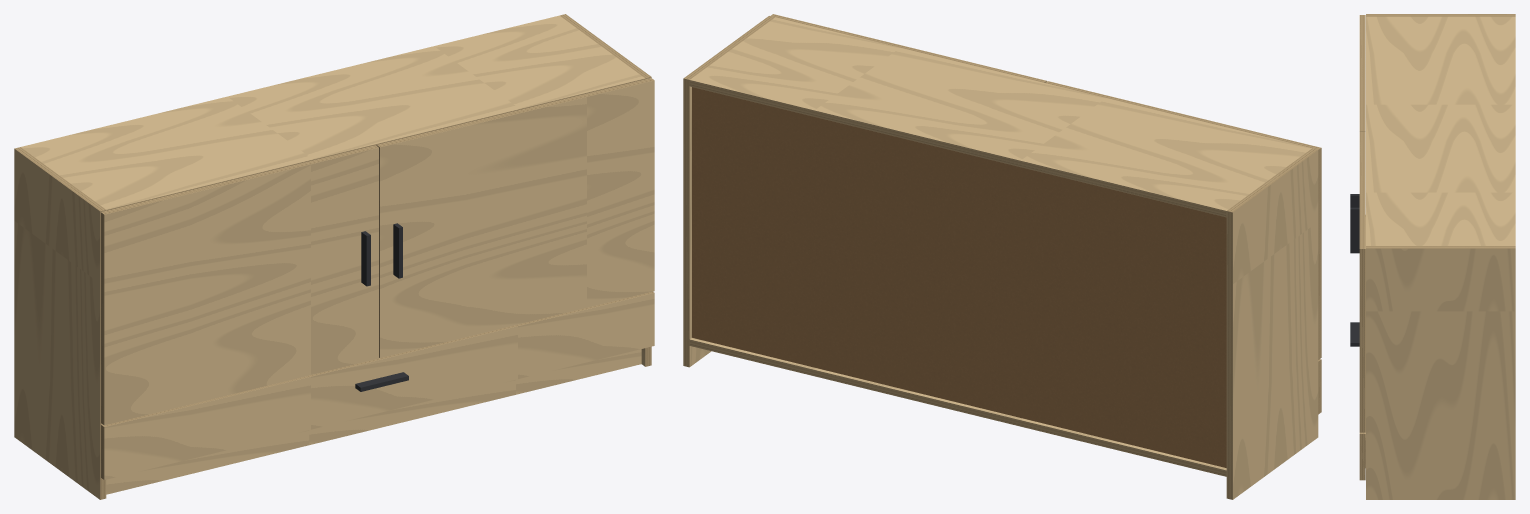
Rendered from SAB-SDB-std.glb.
3 renders of one model, left to right at view 1: azimuth 30°, elevation 25°; view 2: azimuth 150°, elevation 25°; view 3: azimuth 270°, elevation 25°, orthographic. The views are drawn at different scales.
Visible parts, largest first — view 1: door-l:sheet:eyJtIjoicGx5Iiwic2lkZSI6ImZhY2UiLCJzZWVkIjoyLCJ, door-r:sheet:eyJtIjoicGx5Iiwic2lkZSI6ImZhY2UiLCJzZWVkIjoxLCJ, top:sheet:eyJtIjoicGx5Iiwic2lkZSI6ImZhY2UiLCJzZWVkIjo2LCJ2ZW, d1-front:sheet:eyJtIjoicGx5Iiwic2lkZSI6ImZhY2UiLCJzZWVkIjo2L, side-l:sheet:eyJtIjoicGx5Iiwic2lkZSI6ImZhY2UiLCJzZWVkIjoxLCJ, plinth:sheet:eyJtIjoicGx5Iiwic2lkZSI6ImZhY2UiLCJzZWVkIjozLCJ, pull, d1-front:sheet:eyJtIjoicGx5Iiwic2lkZSI6ImVkZ2UtbG9uZyIsInNlZ, door-l:sheet:eyJtIjoicGx5Iiwic2lkZSI6ImVkZ2UtbG9uZyIsInNlZWQ, door-r:sheet:eyJtIjoicGx5Iiwic2lkZSI6ImVkZ2UtbG9uZyIsInNlZWQ, top:sheet:eyJtIjoicGx5Iiwic2lkZSI6ImVkZ2UtbG9uZyIsInNlZWQiOj, door-l:sheet:eyJtIjoicGx5Iiwic2lkZSI6ImVkZ2UtZW5kIiwic2VlZCI; view 2: back:sheet:eyJtIjoibWRmIiwic2lkZSI6ImZhY2UiLCJzZWVkIjoyLCJ0a, top:sheet:eyJtIjoicGx5Iiwic2lkZSI6ImZhY2UiLCJzZWVkIjo2LCJ2ZW, side-l:sheet:eyJtIjoicGx5Iiwic2lkZSI6ImZhY2UiLCJzZWVkIjoxLCJ, bottom:sheet:eyJtIjoicGx5Iiwic2lkZSI6ImVkZ2UtbG9uZyIsInNlZWQ, top:sheet:eyJtIjoicGx5Iiwic2lkZSI6ImVkZ2UtbG9uZyIsInNlZWQiOj, side-r:sheet:eyJtIjoicGx5Iiwic2lkZSI6ImVkZ2UtbG9uZyIsInNlZWQ, side-l:sheet:eyJtIjoicGx5Iiwic2lkZSI6ImVkZ2UtbG9uZyIsInNlZWQ, bottom:sheet:eyJtIjoicGx5Iiwic2lkZSI6ImZhY2UiLCJzZWVkIjowLCJ, side-r:sheet:eyJtIjoicGx5Iiwic2lkZSI6ImZhY2UiLCJzZWVkIjozLCJ, door-l:sheet:eyJtIjoicGx5Iiwic2lkZSI6ImVkZ2UtbG9uZyIsInNlZWQ, door-r:sheet:eyJtIjoicGx5Iiwic2lkZSI6ImVkZ2UtbG9uZyIsInNlZWQ, door-l:sheet:eyJtIjoicGx5Iiwic2lkZSI6ImVkZ2UtZW5kIiwic2VlZCI; view 3: side-r:sheet:eyJtIjoicGx5Iiwic2lkZSI6ImZhY2UiLCJzZWVkIjozLCJ, top:sheet:eyJtIjoicGx5Iiwic2lkZSI6ImZhY2UiLCJzZWVkIjo2LCJ2ZW, door-r:sheet:eyJtIjoicGx5Iiwic2lkZSI6ImVkZ2UtZW5kIiwic2VlZCI, pull, door-l:sheet:eyJtIjoicGx5Iiwic2lkZSI6ImVkZ2UtbG9uZyIsInNlZWQ, door-r:sheet:eyJtIjoicGx5Iiwic2lkZSI6ImVkZ2UtbG9uZyIsInNlZWQ, side-l:sheet:eyJtIjoicGx5Iiwic2lkZSI6ImVkZ2UtZW5kIiwic2VlZCI, side-r:sheet:eyJtIjoicGx5Iiwic2lkZSI6ImVkZ2UtZW5kIiwic2VlZCI, d1-front:sheet:eyJtIjoicGx5Iiwic2lkZSI6ImVkZ2UtZW5kIiwic2VlZ, d1-box-front:sheet:eyJtIjoicGx5Iiwic2lkZSI6ImVkZ2UtbG9uZyIsI.
Boxes of the visible parts, <box> form: door-l:sheet:eyJtIjoicGx5Iiwic2lkZSI6ImZhY2UiLCJzZWVkIjoyLCJ: <box>104,147,378,425</box>; door-r:sheet:eyJtIjoicGx5Iiwic2lkZSI6ImZhY2UiLCJzZWVkIjoxLCJ: <box>380,80,654,357</box>; top:sheet:eyJtIjoicGx5Iiwic2lkZSI6ImZhY2UiLCJzZWVkIjo2LCJ2ZW: <box>21,15,644,209</box>; d1-front:sheet:eyJtIjoicGx5Iiwic2lkZSI6ImZhY2UiLCJzZWVkIjo2L: <box>104,293,654,479</box>; side-l:sheet:eyJtIjoicGx5Iiwic2lkZSI6ImZhY2UiLCJzZWVkIjoxLCJ: <box>14,149,100,499</box>; plinth:sheet:eyJtIjoicGx5Iiwic2lkZSI6ImZhY2UiLCJzZWVkIjozLCJ: <box>106,349,641,494</box>; pull: <box>355,223,408,391</box>; d1-front:sheet:eyJtIjoicGx5Iiwic2lkZSI6ImVkZ2UtbG9uZyIsInNlZ: <box>101,291,654,426</box>; door-l:sheet:eyJtIjoicGx5Iiwic2lkZSI6ImVkZ2UtbG9uZyIsInNlZWQ: <box>101,145,378,214</box>; door-r:sheet:eyJtIjoicGx5Iiwic2lkZSI6ImVkZ2UtbG9uZyIsInNlZWQ: <box>377,78,654,147</box>; top:sheet:eyJtIjoicGx5Iiwic2lkZSI6ImVkZ2UtbG9uZyIsInNlZWQiOj: <box>106,78,645,210</box>; door-l:sheet:eyJtIjoicGx5Iiwic2lkZSI6ImVkZ2UtZW5kIiwic2VlZCI: <box>101,212,104,424</box>; back:sheet:eyJtIjoibWRmIiwic2lkZSI6ImZhY2UiLCJzZWVkIjoyLCJ0a: <box>692,87,1226,467</box>; top:sheet:eyJtIjoicGx5Iiwic2lkZSI6ImZhY2UiLCJzZWVkIjo2LCJ2ZW: <box>690,17,1311,210</box>; side-l:sheet:eyJtIjoicGx5Iiwic2lkZSI6ImZhY2UiLCJzZWVkIjoxLCJ: <box>1233,150,1318,499</box>; bottom:sheet:eyJtIjoicGx5Iiwic2lkZSI6ImVkZ2UtbG9uZyIsInNlZWQ: <box>689,339,1226,476</box>; top:sheet:eyJtIjoicGx5Iiwic2lkZSI6ImVkZ2UtbG9uZyIsInNlZWQiOj: <box>689,80,1226,217</box>; side-r:sheet:eyJtIjoicGx5Iiwic2lkZSI6ImVkZ2UtbG9uZyIsInNlZWQ: <box>683,78,689,367</box>; side-l:sheet:eyJtIjoicGx5Iiwic2lkZSI6ImVkZ2UtbG9uZyIsInNlZWQ: <box>1226,211,1232,499</box>; bottom:sheet:eyJtIjoicGx5Iiwic2lkZSI6ImZhY2UiLCJzZWVkIjowLCJ: <box>690,338,1226,470</box>; side-r:sheet:eyJtIjoicGx5Iiwic2lkZSI6ImZhY2UiLCJzZWVkIjozLCJ: <box>689,86,711,366</box>; door-l:sheet:eyJtIjoicGx5Iiwic2lkZSI6ImVkZ2UtbG9uZyIsInNlZWQ: <box>1045,81,1321,149</box>; door-r:sheet:eyJtIjoicGx5Iiwic2lkZSI6ImVkZ2UtbG9uZyIsInNlZWQ: <box>771,14,1046,82</box>; door-l:sheet:eyJtIjoicGx5Iiwic2lkZSI6ImVkZ2UtZW5kIiwic2VlZCI: <box>1318,148,1321,359</box>; side-r:sheet:eyJtIjoicGx5Iiwic2lkZSI6ImZhY2UiLCJzZWVkIjozLCJ: <box>1366,248,1515,499</box>; top:sheet:eyJtIjoicGx5Iiwic2lkZSI6ImZhY2UiLCJzZWVkIjo2LCJ2ZW: <box>1366,16,1515,245</box>; door-r:sheet:eyJtIjoicGx5Iiwic2lkZSI6ImVkZ2UtZW5kIiwic2VlZCI: <box>1359,249,1365,432</box>; pull: <box>1350,194,1359,346</box>; door-l:sheet:eyJtIjoicGx5Iiwic2lkZSI6ImVkZ2UtbG9uZyIsInNlZWQ: <box>1359,15,1365,131</box>; door-r:sheet:eyJtIjoicGx5Iiwic2lkZSI6ImVkZ2UtbG9uZyIsInNlZWQ: <box>1359,132,1365,248</box>; side-l:sheet:eyJtIjoicGx5Iiwic2lkZSI6ImVkZ2UtZW5kIiwic2VlZCI: <box>1366,14,1515,16</box>; side-r:sheet:eyJtIjoicGx5Iiwic2lkZSI6ImVkZ2UtZW5kIiwic2VlZCI: <box>1366,246,1515,248</box>; d1-front:sheet:eyJtIjoicGx5Iiwic2lkZSI6ImVkZ2UtZW5kIiwic2VlZ: <box>1359,434,1365,480</box>; d1-box-front:sheet:eyJtIjoicGx5Iiwic2lkZSI6ImVkZ2UtbG9uZyIsI: <box>1365,217,1365,437</box>.
Bounding box in the file's own units: 1.6 × 0.8 × 0.4769.
Materials: 55 (54 with a texture image).
